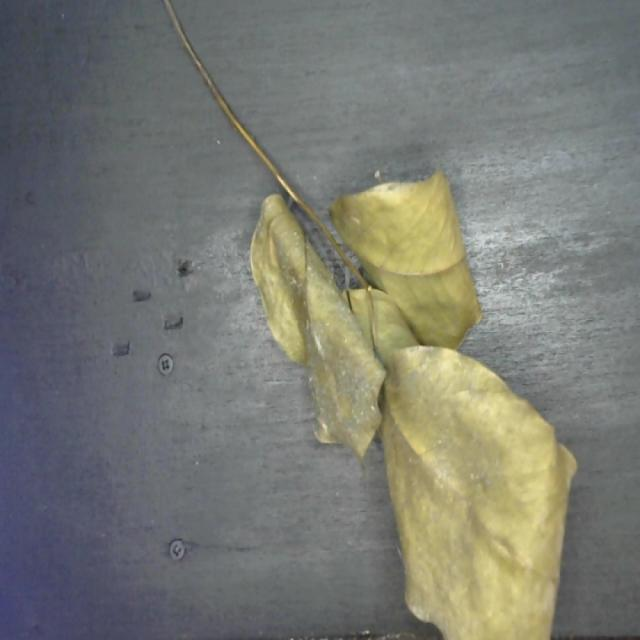biodegradable: (241, 154, 578, 640)
